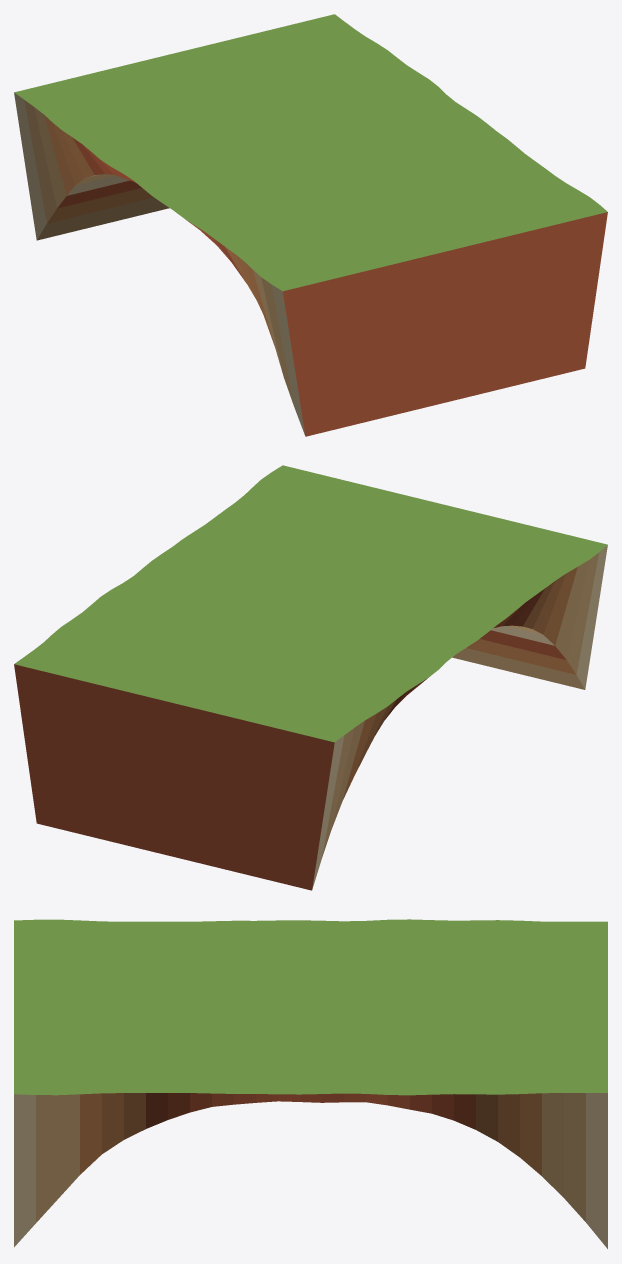
Rendered from ponte_cf.glb.
The picture shows the model from 3 angles, top to bottom: view 1: azimuth 30°, elevation 25°; view 2: azimuth 150°, elevation 25°; view 3: azimuth 270°, elevation 25°; orthographic projection. The views are drawn at different scales.
Parts seen in each view (by area): view 1: ponte_cf; view 2: ponte_cf; view 3: ponte_cf.
Part boxes in pixels (x1,y1,x2,y2): ponte_cf: [14, 14, 607, 436]; ponte_cf: [14, 465, 607, 890]; ponte_cf: [14, 919, 607, 1248].
Bounding box in the file's own units: 77.07 × 34.43 × 110.
